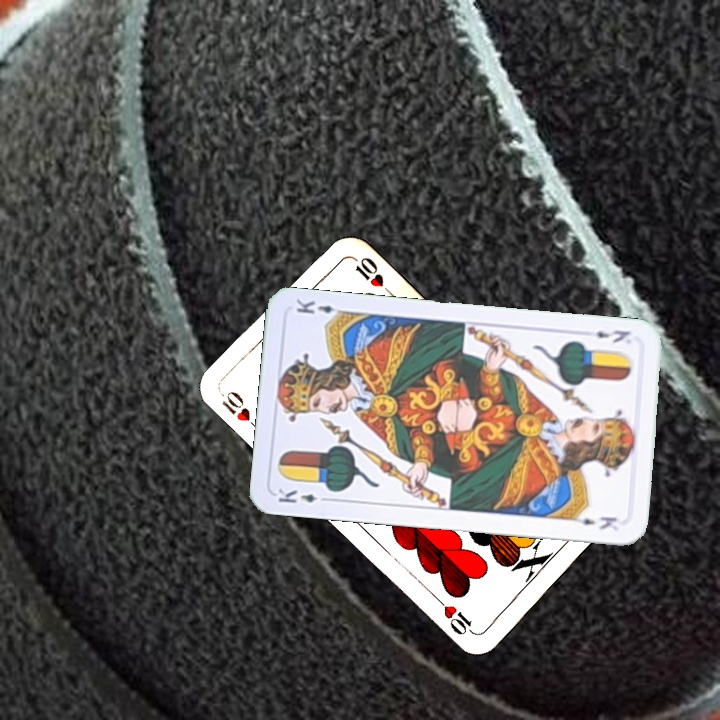EK: (274, 485, 333, 506), (592, 326, 633, 346)
H10: (217, 387, 264, 435)
